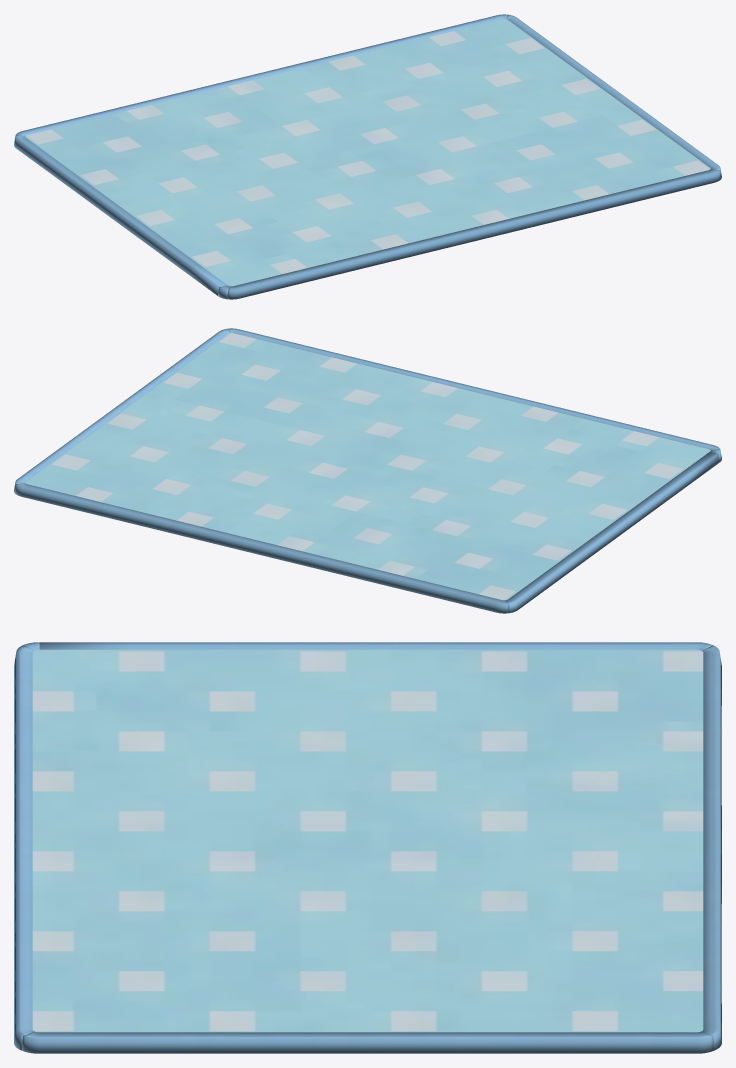
File: bluedotmat.glb
3 renders of one model, top to bottom at view 1: azimuth 30°, elevation 25°; view 2: azimuth 150°, elevation 25°; view 3: azimuth 270°, elevation 25°, orthographic. The views are drawn at different scales.
Visible parts, largest first — view 1: Edge__mMain.001; view 2: Edge__mMain.001; view 3: Edge__mMain.001.
Boxes of the visible parts, x1=… form: Edge__mMain.001: x1=14, y1=14, x2=721, y2=299; Edge__mMain.001: x1=14, y1=328, x2=721, y2=613; Edge__mMain.001: x1=14, y1=642, x2=721, y2=1053.
Bounding box in the file's own units: 0.5925 × 0.0104 × 0.4451.
Materials: 1 (1 with a texture image).
